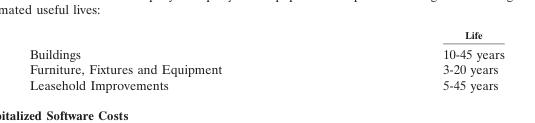table: (28, 28, 503, 91)
table column: (28, 28, 331, 91), (331, 28, 503, 91)
table column header: (28, 28, 503, 43)
table row: (28, 43, 503, 61), (28, 28, 503, 43), (28, 61, 503, 76), (28, 76, 503, 91)
